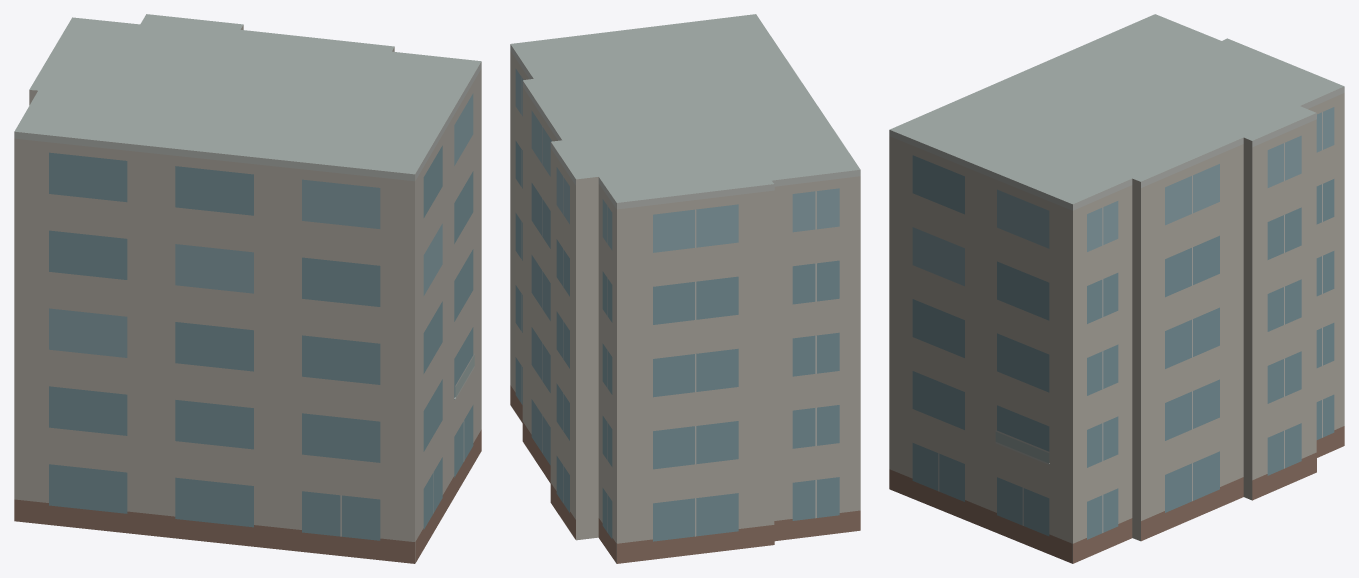
Rendered from survey-upis-32702498.glb.
3 views of the same model, side by side, from view 1: azimuth 30°, elevation 25°; view 2: azimuth 150°, elevation 25°; view 3: azimuth 270°, elevation 25° (orthographic). The views are drawn at different scales.
Parts seen in each view (by area): view 1: survey-upis-32702498.tmp; view 2: survey-upis-32702498.tmp; view 3: survey-upis-32702498.tmp.
Boxes of the visible parts, x1,y1,x2,y2 form: survey-upis-32702498.tmp: [14, 14, 481, 563]; survey-upis-32702498.tmp: [510, 14, 860, 563]; survey-upis-32702498.tmp: [889, 14, 1344, 563].
Bounding box in the file's own units: 15.51 × 13.65 × 15.67.
